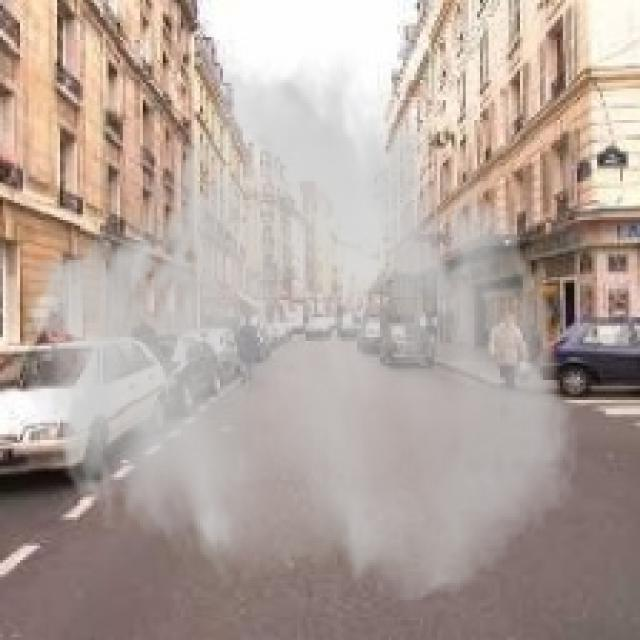Smoke: (17, 37, 583, 606)
